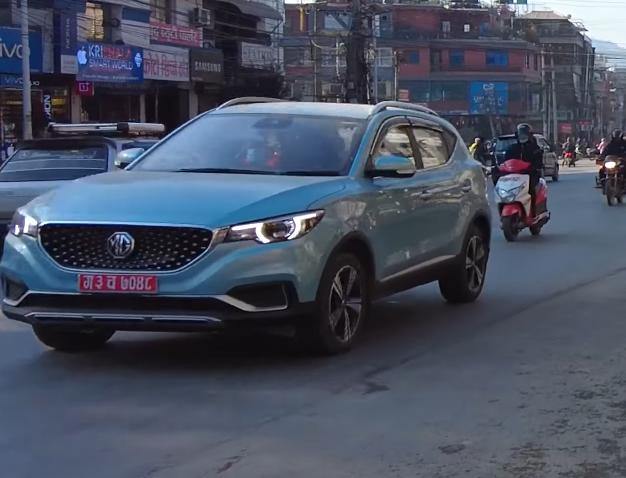bike: (595, 149, 626, 208)
car: (4, 84, 504, 351)
scooter: (487, 150, 551, 241)
